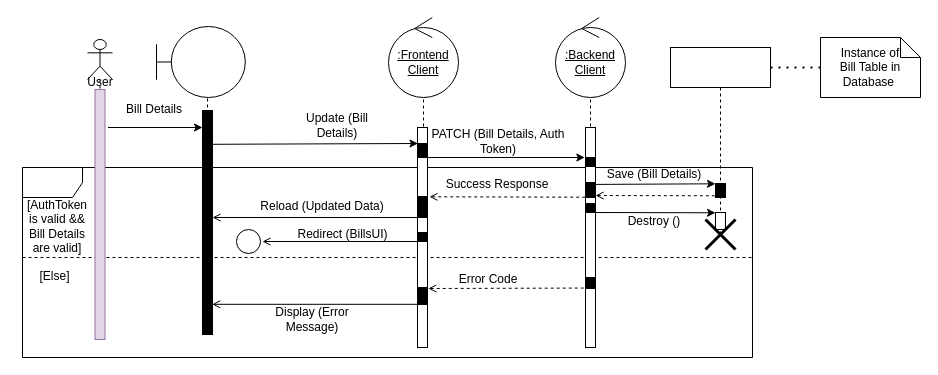
The diagram is 938 pixels wide and 375 high, and some of its shapes have lost their labels. Here are the shapes that lost their labels. From the top down, the box of each, then its label:
(156, 26, 245, 98): :AddBillUI
(670, 46, 770, 238): :Bill
(22, 166, 752, 358): alt
